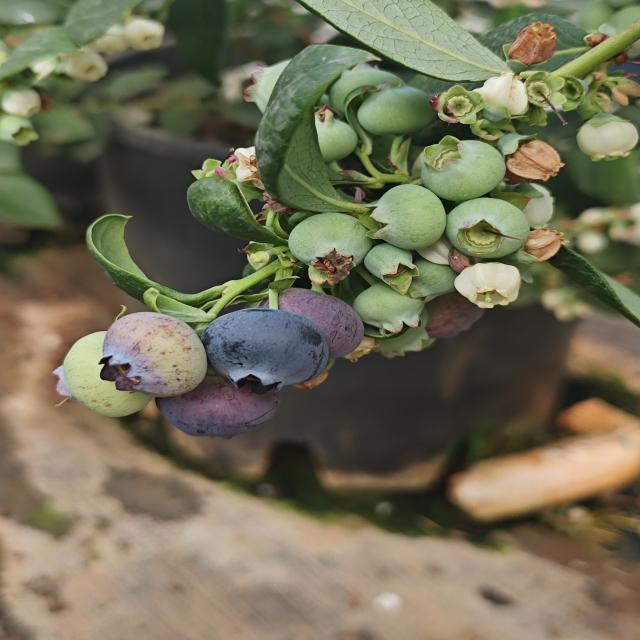ripe: (187, 310, 335, 390), (269, 283, 386, 382), (155, 368, 292, 441)
